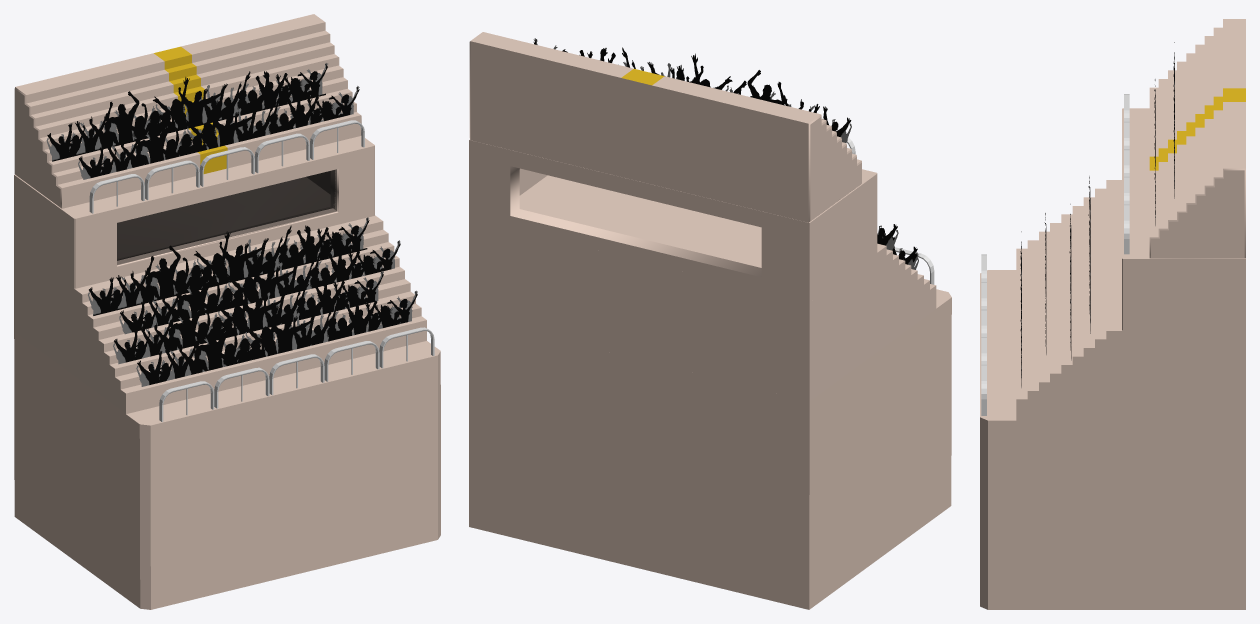
The model's file is arquibancada.fbx.
The picture shows the model from 3 angles, left to right: view 1: azimuth 30°, elevation 25°; view 2: azimuth 150°, elevation 25°; view 3: azimuth 270°, elevation 25°; orthographic projection. The views are drawn at different scales.
Parts seen in each view (by area): view 1: vip, Plane.002, Plane.003, Plane, Plane.004, Plane.001, Plane.005, grade 1, grade 1.001; view 2: vip, Plane.003; view 3: vip, grade 1, grade 1.001.
Part boxes in pixels (x1,y1,x2,y2): vip: [14, 14, 440, 609]; Plane.002: [88, 217, 369, 315]; Plane.003: [46, 63, 327, 161]; Plane: [136, 290, 417, 386]; Plane.004: [78, 86, 359, 179]; Plane.001: [113, 271, 383, 364]; Plane.005: [119, 240, 400, 334]; grade 1: [159, 327, 434, 421]; grade 1.001: [89, 120, 364, 213]; vip: [469, 32, 951, 609]; Plane.003: [533, 38, 851, 142]; vip: [980, 19, 1245, 609]; grade 1: [981, 254, 986, 415]; grade 1.001: [1124, 94, 1129, 254].
Size of the model in its own units: 1917 by 2609 by 1416.
6 materials, 1 textured.
